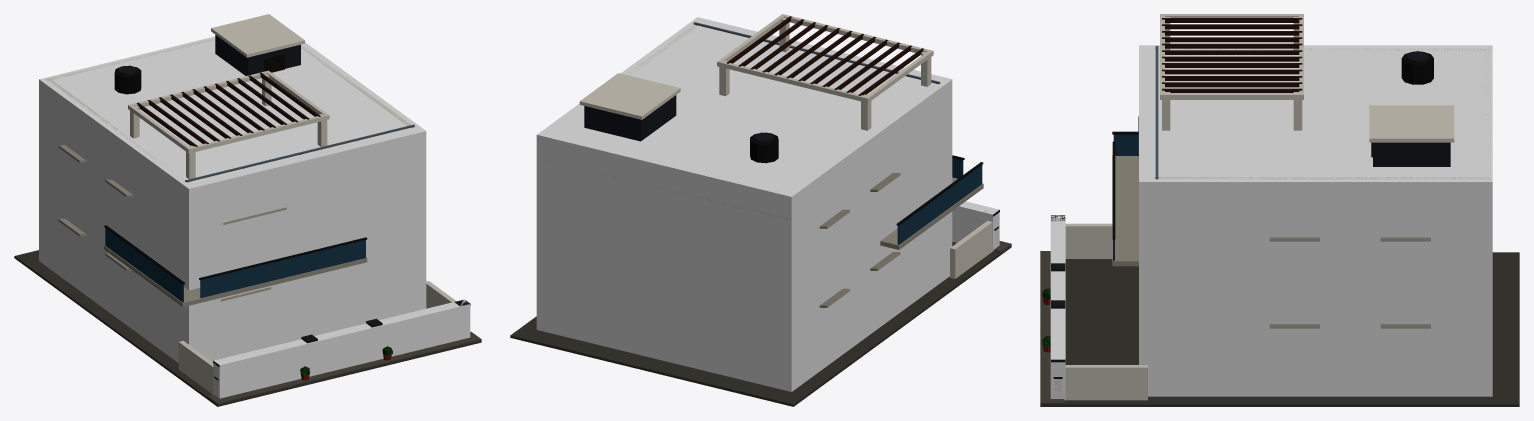
File: CHN_043_duplex_pergola.glb
3 renders of one model, left to right at view 1: azimuth 30°, elevation 25°; view 2: azimuth 150°, elevation 25°; view 3: azimuth 270°, elevation 25°, orthographic. The views are drawn at different scales.
Visible parts, largest first — view 1: COL_Main, LOD0, COL_Compound; view 2: COL_Main, LOD0, COL_Compound; view 3: COL_Main, LOD0, COL_Compound.
Part boxes in pixels (x1,y1,x2,y2): COL_Main: [39, 36, 426, 362]; LOD0: [14, 14, 481, 406]; COL_Compound: [213, 299, 470, 398]; COL_Main: [536, 17, 952, 391]; LOD0: [510, 14, 1011, 406]; COL_Compound: [952, 201, 999, 251]; COL_Main: [1139, 45, 1492, 396]; LOD0: [1040, 14, 1519, 406]; COL_Compound: [1050, 215, 1065, 400].
Size of what is drawn, in the model's own units: 12.2 by 9.36 by 16.
